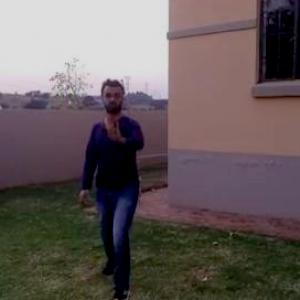takeoff-hand: (102, 111, 125, 147)
